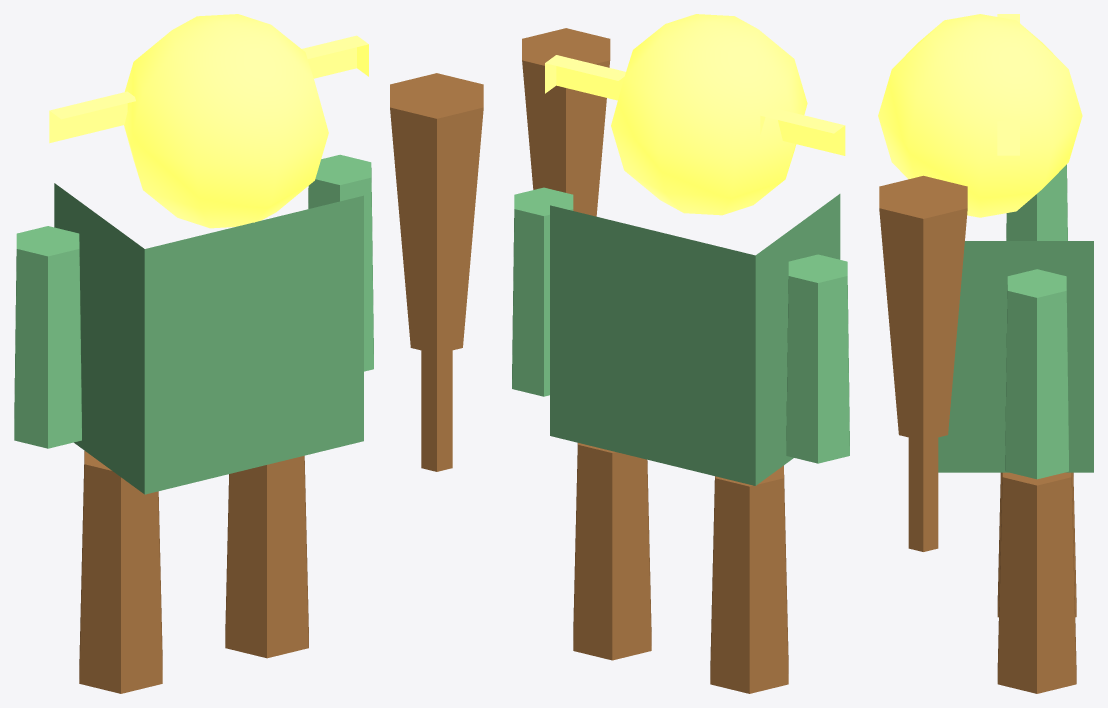
File: enemy_goblin.glb
3 views of the same model, side by side, from view 1: azimuth 30°, elevation 25°; view 2: azimuth 150°, elevation 25°; view 3: azimuth 270°, elevation 25° (orthographic). The views are drawn at different scales.
Visible parts, largest first — view 1: Torso, Head, Weapon, LeftLeg, RightLeg, LeftArm, RightArm; view 2: Torso, Head, LeftLeg, RightLeg, LeftArm, Weapon, RightArm; view 3: Head, Weapon, Torso, RightLeg, RightArm, LeftArm, LeftLeg.
Boxes of the visible parts, box(x1,y1,x2,y2) form: Torso: box(54, 183, 363, 494); Head: box(49, 14, 368, 228); Weapon: box(390, 73, 483, 471); LeftLeg: box(79, 451, 162, 693); RightLeg: box(225, 455, 308, 658); LeftArm: box(14, 226, 81, 448); RightArm: box(308, 154, 373, 371); Torso: box(550, 194, 840, 485); Head: box(545, 14, 845, 215); LeftLeg: box(710, 465, 788, 693); RightLeg: box(573, 443, 651, 660); LeftArm: box(786, 254, 849, 463); Weapon: box(522, 28, 610, 216); RightArm: box(512, 187, 573, 396); Head: box(878, 14, 1082, 217); Weapon: box(879, 175, 967, 551); Torso: box(938, 241, 1093, 472); RightLeg: box(997, 472, 1076, 693); RightArm: box(1005, 269, 1068, 479); LeftArm: box(1006, 164, 1067, 240); LeftLeg: box(997, 472, 1076, 617).
Size of the model in its own units: 0.785 by 1.2 by 0.38.
